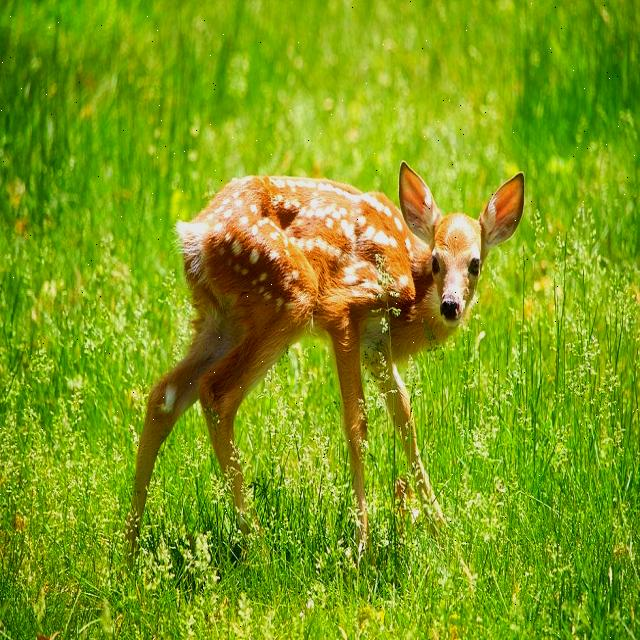deer: (118, 136, 534, 560)
